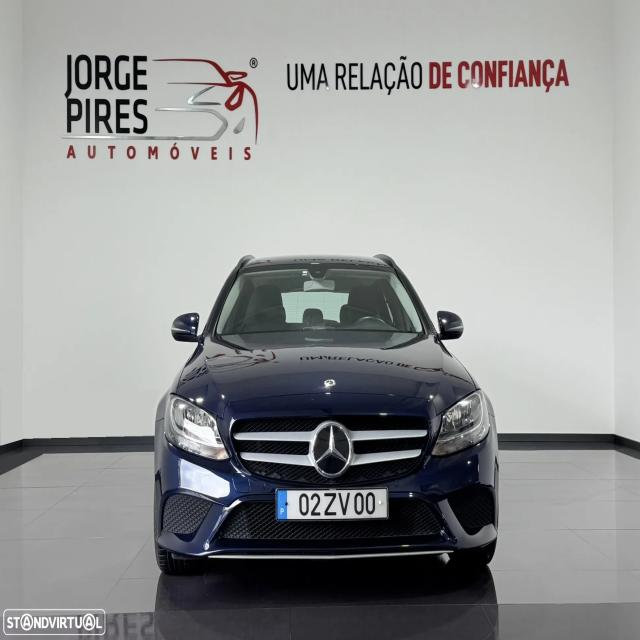portuguese-license-plates: (276, 489, 387, 520)
